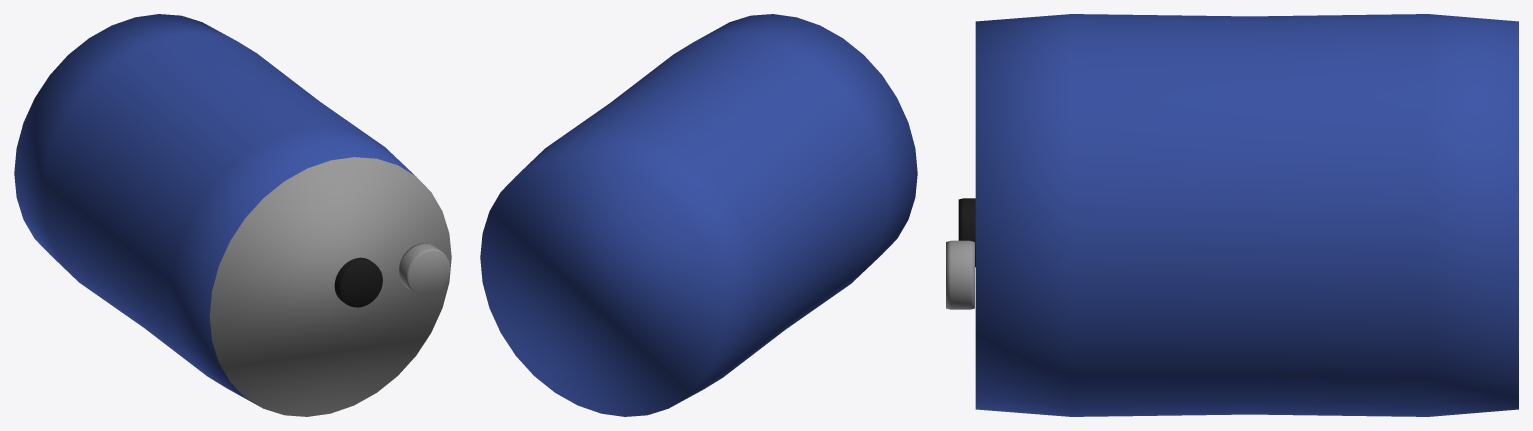
The model's file is water.glb.
3 renders of one model, left to right at view 1: azimuth 30°, elevation 25°; view 2: azimuth 150°, elevation 25°; view 3: azimuth 270°, elevation 25°, orthographic. The views are drawn at different scales.
Visible parts, largest first — view 1: Cylinder, Cylinder.001, Cylinder.002; view 2: Cylinder; view 3: Cylinder, Cylinder.001, Cylinder.002.
Part boxes in pixels (<box>): Cylinder: <box>14,14,451,416</box>; Cylinder.001: <box>398,243,450,295</box>; Cylinder.002: <box>334,257,382,307</box>; Cylinder: <box>480,14,917,416</box>; Cylinder: <box>975,14,1518,416</box>; Cylinder.001: <box>946,240,974,309</box>; Cylinder.002: <box>958,198,975,267</box>.
Size of the model in its own units: 0.4861 by 0.4861 by 0.6904.
